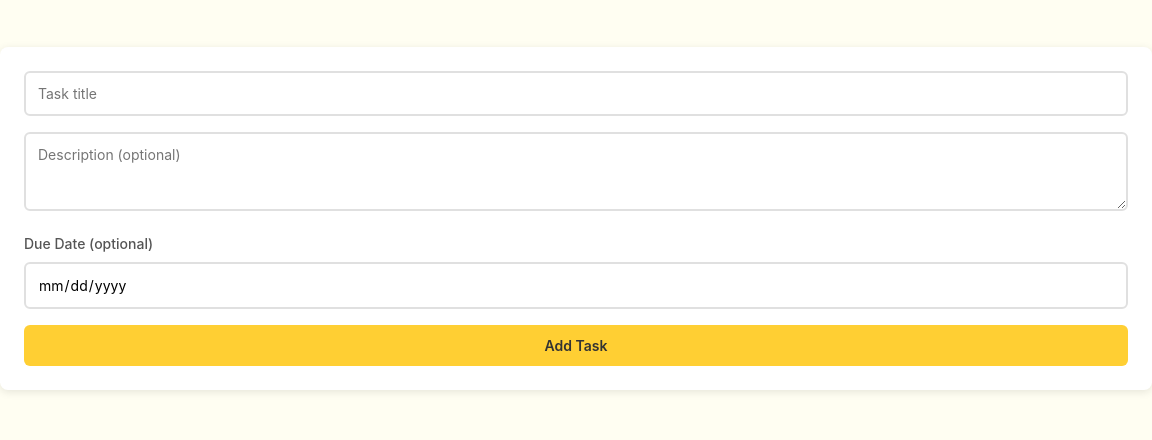
Test: TaskForm › should display error message on submission failure
Step 1. Type "Test Task" into the field with placeholder "Task title" → [576, 93], box [24, 70, 1128, 116]
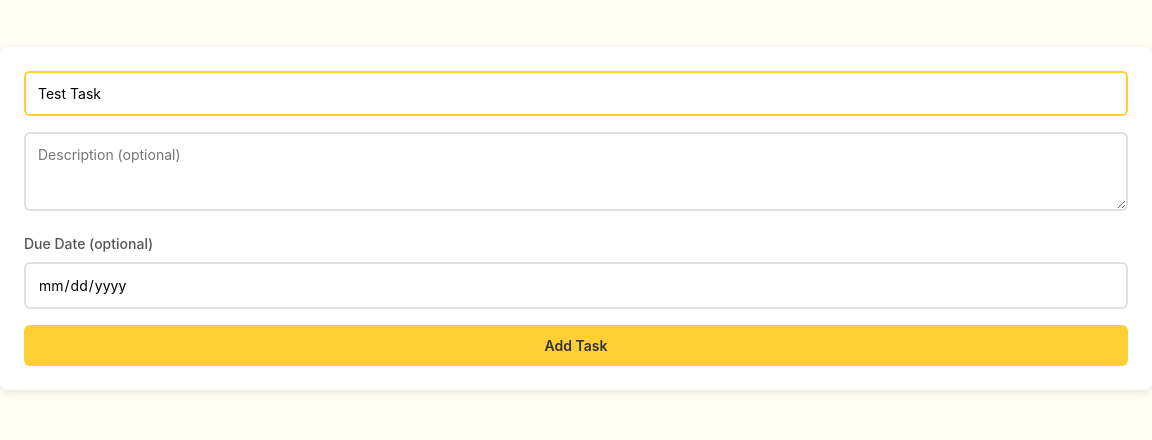
Step 2. Click the button "Add Task" → [576, 345], box [24, 324, 1128, 366]
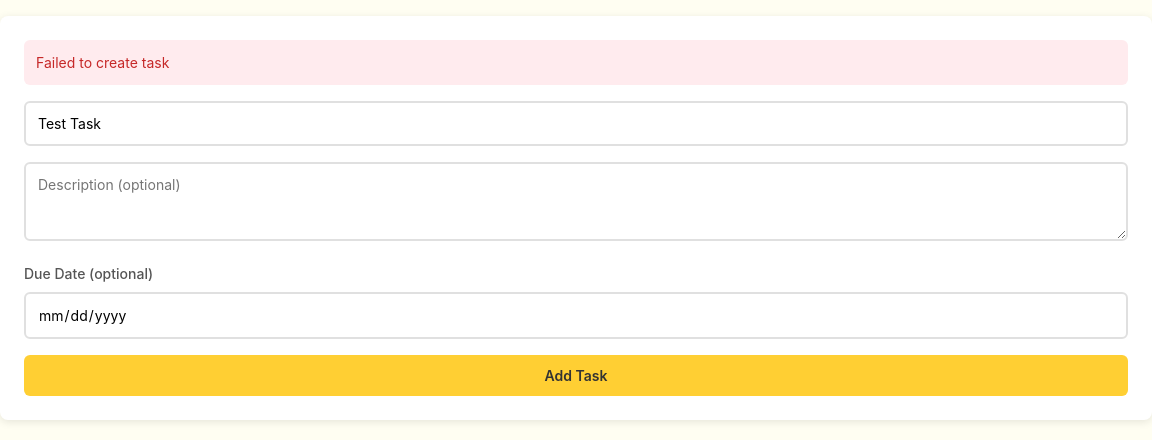
Result: the text "Failed to create task" is shown at [24, 40, 1128, 85]
